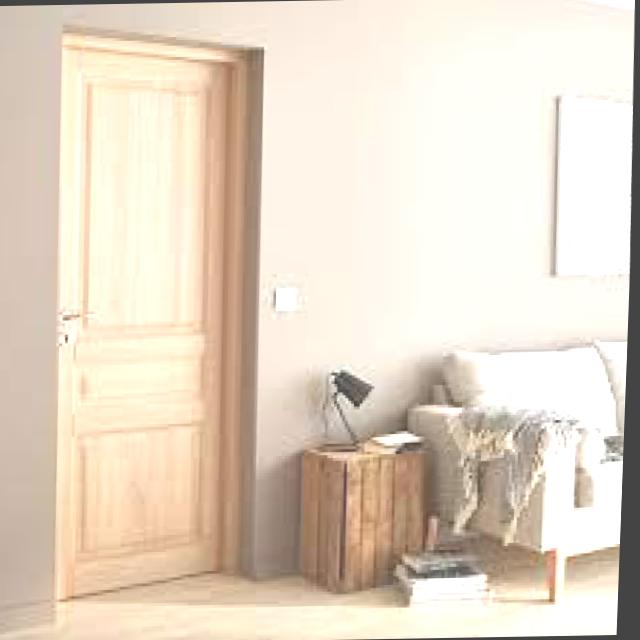close: (36, 12, 289, 624)
